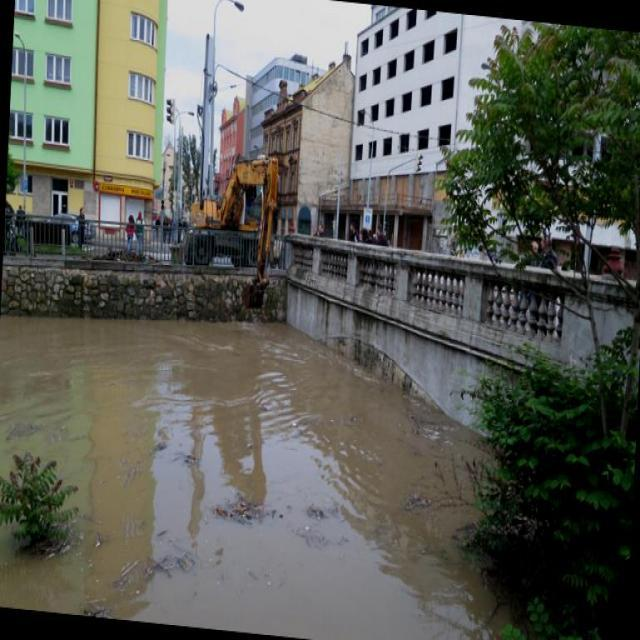flood: (0, 287, 479, 638)
